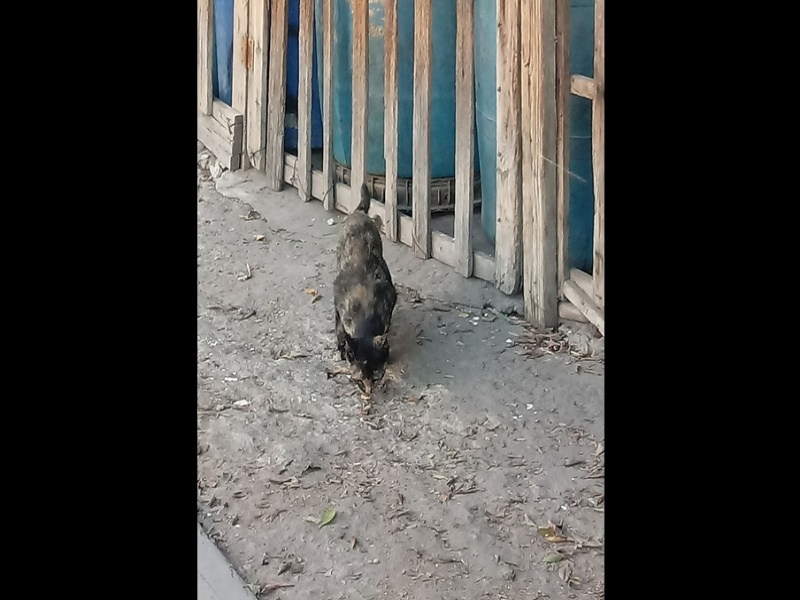cat: (325, 189, 406, 399)
